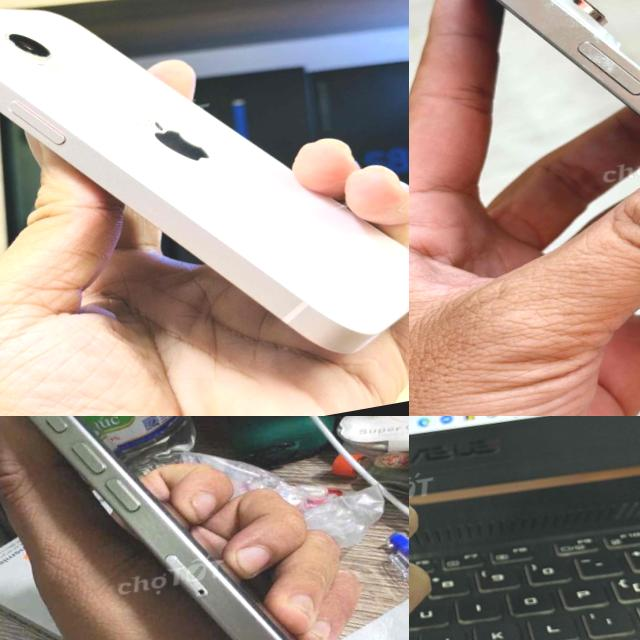scratch: (176, 561, 253, 640), (576, 26, 624, 90)
